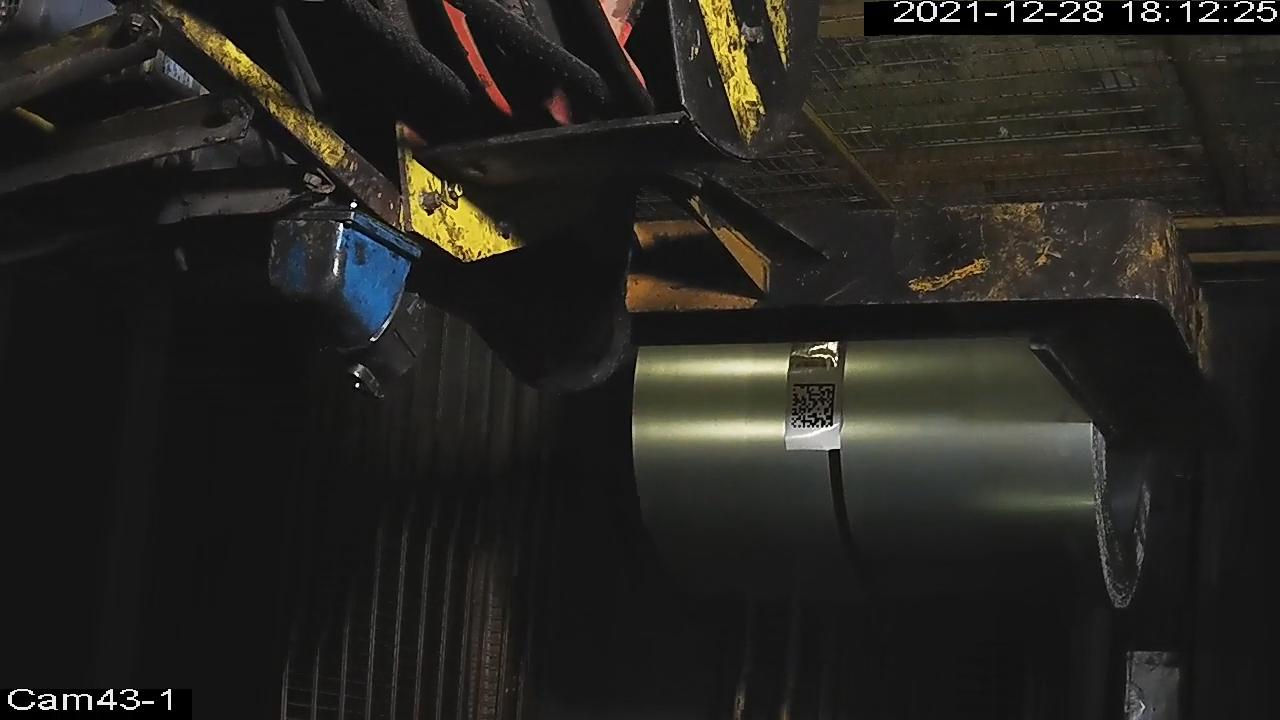data matrix: (790, 382, 838, 432)
